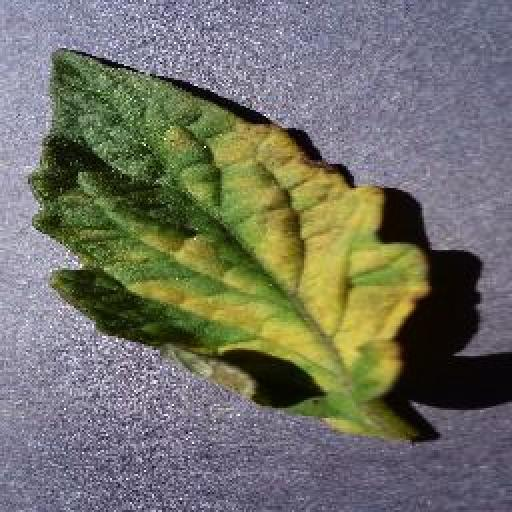disease_tomato: (28, 46, 430, 444)
